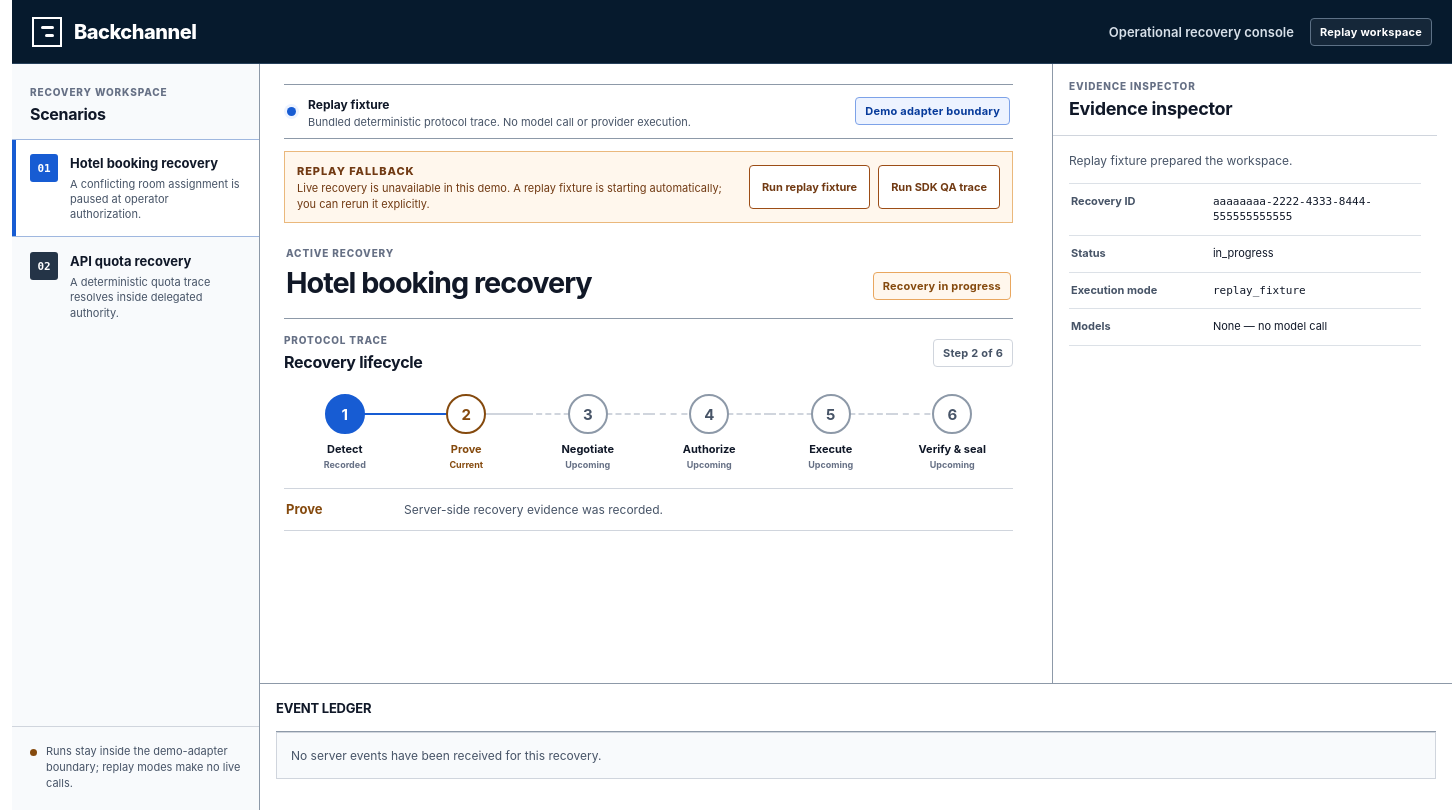
Test: Backchannel console › loads the interactive hotel consent from a real server-shaped SDK snapshot
The width and height of the screenshot is (1452, 810).
What coordinates should you click on to do the following:
click the button "Run SDK QA trace"
I would click on:
 (939, 187)
Its box is [878,165,1000,209].
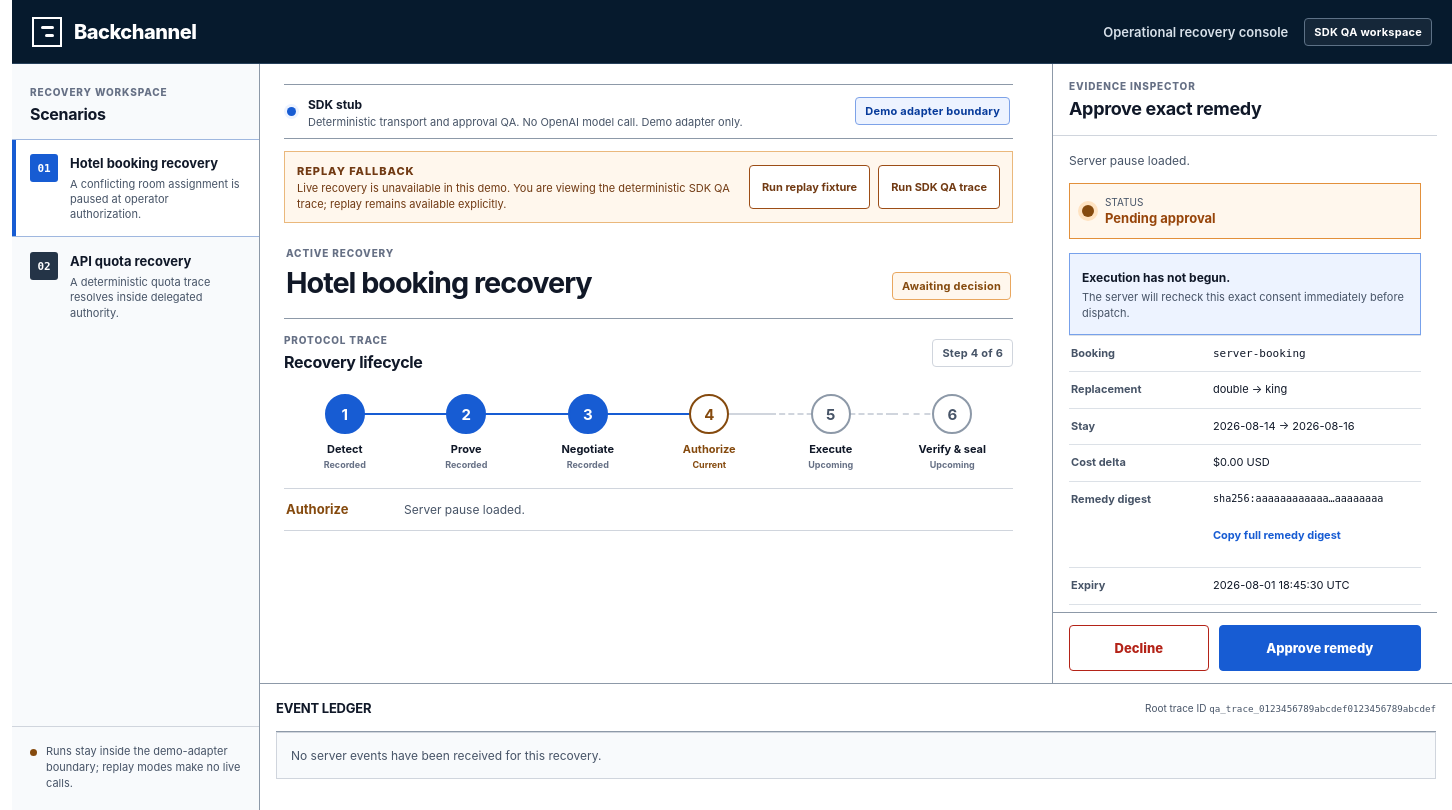
Expected: the heading "Approve exact remedy" is shown, [1069,98,1262,119]
Expected: the text "SDK stub" is shown, [308,97,362,112]
Expected: the text "server-booking" is shown, [1213,347,1306,360]
